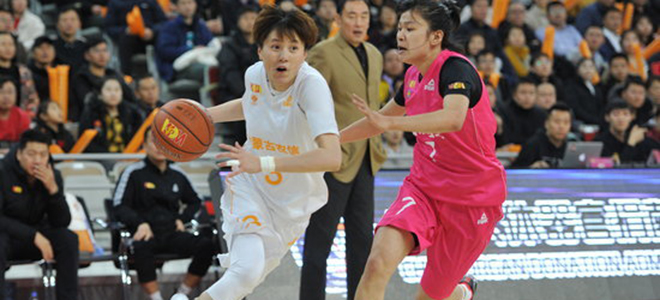ball: (151, 98, 215, 163)
